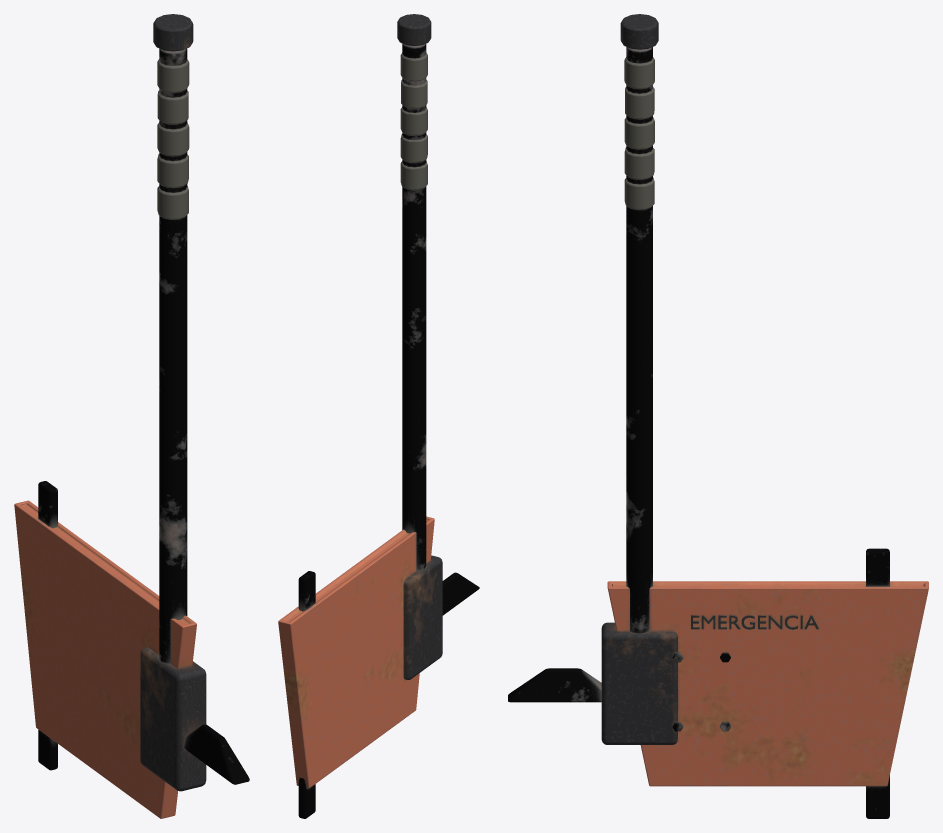
The model's file is hacha.glb.
The picture shows the model from 3 angles, left to right: view 1: azimuth 30°, elevation 25°; view 2: azimuth 150°, elevation 25°; view 3: azimuth 270°, elevation 25°; orthographic projection. The views are drawn at different scales.
Parts seen in each view (by area): view 1: hacha; view 2: hacha; view 3: hacha.
Boxes of the visible parts, x1,y1,x2,y2 form: hacha: (14, 14, 249, 818); hacha: (278, 14, 479, 818); hacha: (508, 14, 928, 818).
Bounding box in the file's own units: 0.084 × 1.84 × 0.8834.
Materials: 1 (1 with a texture image).
